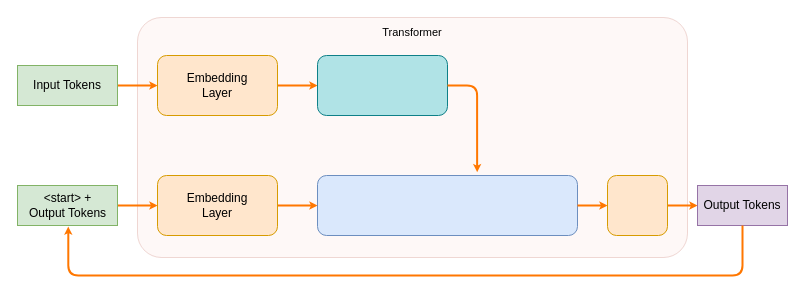
The diagram is 805 pixels wide and 298 high, and some of its shapes have lost their labels. The shapes that lost their labels are listed below. From the top down, each one's centre as x and y in pixels, then its label:
At point (382, 85): "Encoder".
At point (447, 205): "Decoder".
At point (637, 205): "Output Layer".
